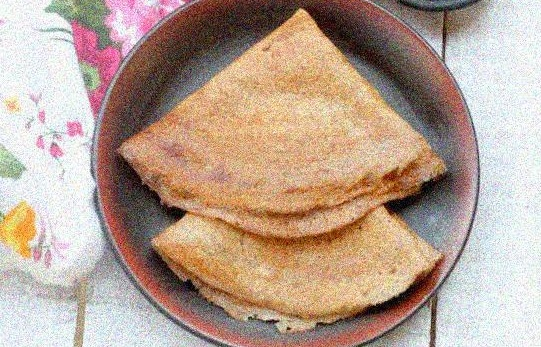dosa: (113, 9, 449, 236)
